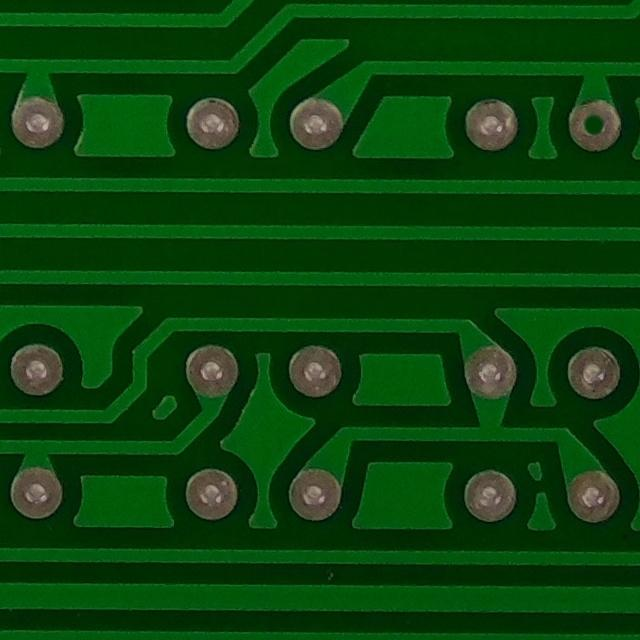missing_hole: (564, 90, 627, 162)
